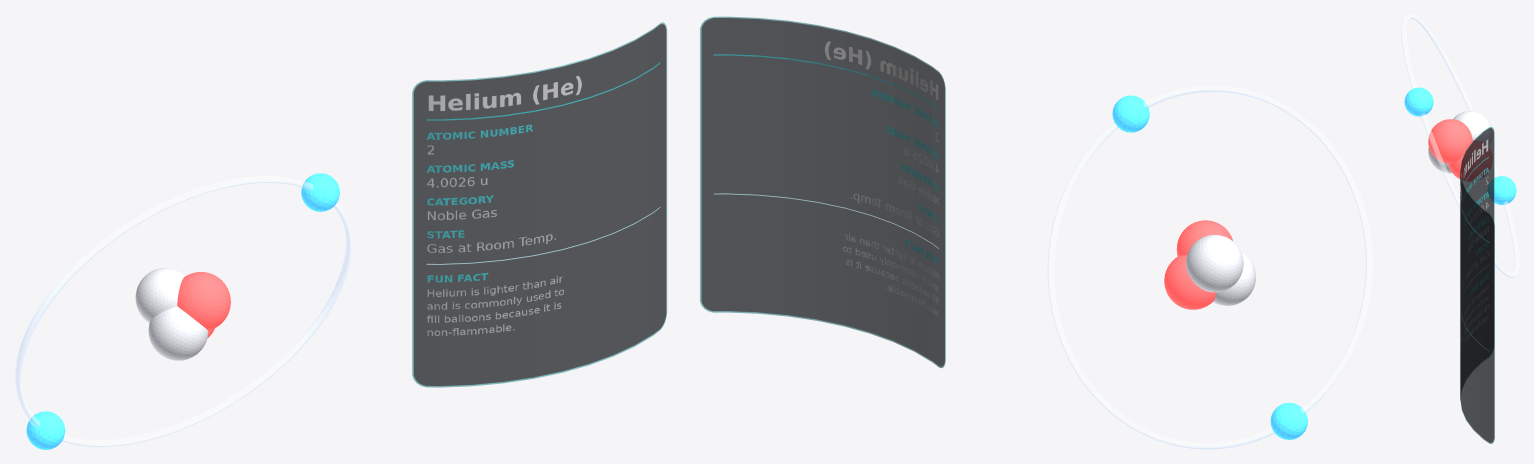
The model's file is helium.glb.
The picture shows the model from 3 angles, left to right: view 1: azimuth 30°, elevation 25°; view 2: azimuth 150°, elevation 25°; view 3: azimuth 270°, elevation 25°; orthographic projection. The views are drawn at different scales.
Visible parts, largest first — view 1: info_panel, orbital_ring, neutron_3, proton_0, neutron_2, electron_0, electron_1; view 2: info_panel, orbital_ring, neutron_2, proton_1, electron_0, electron_1, neutron_3, proton_0; view 3: info_panel, orbital_ring, proton_0, proton_1, neutron_2, electron_0, electron_1, neutron_3.
Boxes of the visible parts, <box> form: info_panel: <box>412,22,666,387</box>; orbital_ring: <box>14,176,351,446</box>; neutron_3: <box>148,306,208,360</box>; proton_0: <box>177,272,230,330</box>; neutron_2: <box>135,268,185,322</box>; electron_0: <box>301,173,339,211</box>; electron_1: <box>26,411,65,449</box>; info_panel: <box>700,16,945,367</box>; orbital_ring: <box>1048,85,1372,449</box>; neutron_2: <box>1186,234,1243,292</box>; proton_1: <box>1164,255,1215,309</box>; electron_0: <box>1112,95,1149,132</box>; electron_1: <box>1270,402,1307,439</box>; neutron_3: <box>1213,252,1255,305</box>; proton_0: <box>1176,220,1232,256</box>; info_panel: <box>1460,127,1494,443</box>; orbital_ring: <box>1401,14,1519,278</box>; proton_0: <box>1428,119,1472,163</box>; proton_1: <box>1448,140,1492,181</box>; neutron_2: <box>1453,111,1492,145</box>; electron_0: <box>1404,87,1433,116</box>; electron_1: <box>1487,176,1516,204</box>; neutron_3: <box>1428,146,1452,173</box>.
Size of the model in its own units: 1.17 by 0.5205 by 0.2377.
5 materials, 1 textured.
